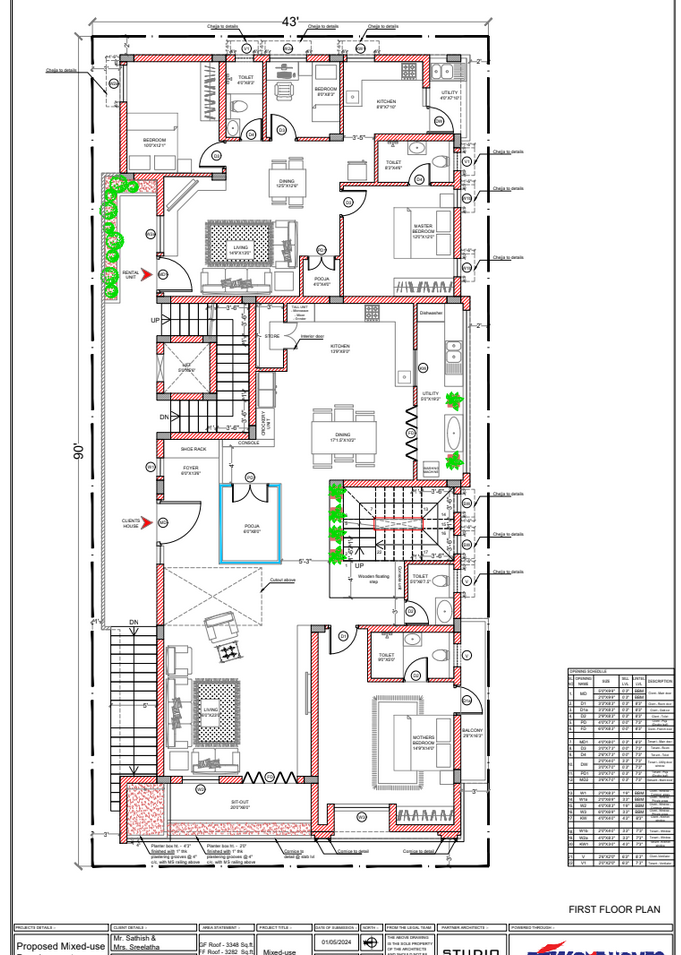door: (157, 501, 201, 546), (157, 255, 193, 292), (330, 626, 358, 656), (426, 104, 454, 133), (458, 684, 484, 715), (270, 112, 298, 140), (198, 140, 224, 169), (403, 654, 430, 681), (342, 189, 367, 218), (404, 599, 430, 626), (239, 116, 265, 140), (408, 162, 432, 184), (249, 482, 269, 505), (231, 482, 250, 505), (322, 254, 337, 273), (308, 255, 322, 271)
